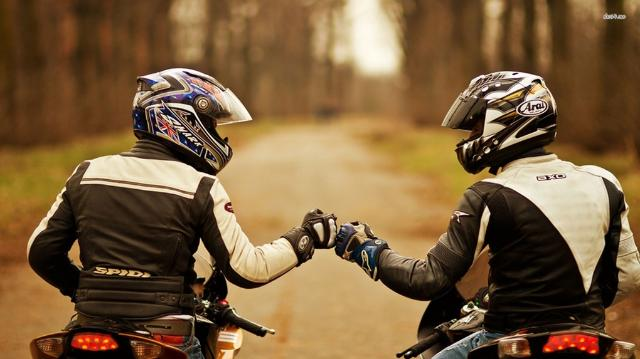helm: (129, 66, 255, 178), (441, 70, 564, 178)
motor: (393, 237, 640, 359), (33, 256, 280, 359)
